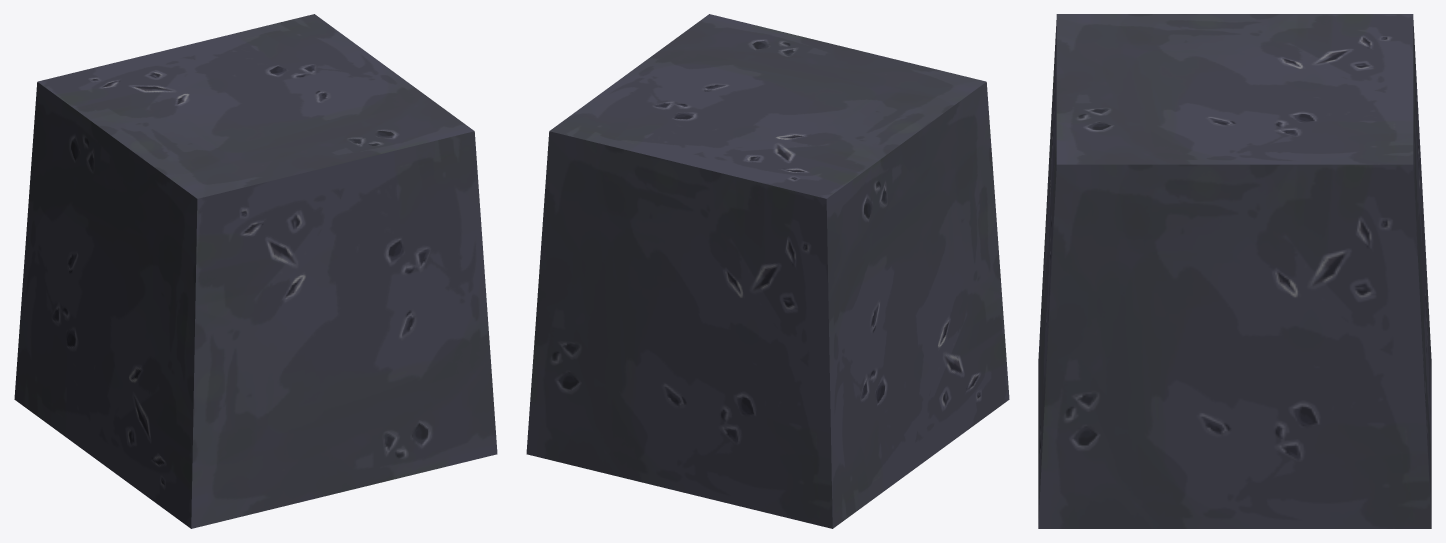
Rendered from MOD_Column_01_block_4.fbx.
The picture shows the model from 3 angles, left to right: view 1: azimuth 30°, elevation 25°; view 2: azimuth 150°, elevation 25°; view 3: azimuth 270°, elevation 25°; orthographic projection. The views are drawn at different scales.
Parts seen in each view (by area): view 1: MOD_Column_01_block_4; view 2: MOD_Column_01_block_4; view 3: MOD_Column_01_block_4.
Boxes of the visible parts, box(x1,y1,x2,y2) form: MOD_Column_01_block_4: box(14, 14, 497, 528); MOD_Column_01_block_4: box(526, 14, 1009, 528); MOD_Column_01_block_4: box(1038, 14, 1431, 528).
Size of the model in its own units: 45.68 by 45.68 by 45.68.
